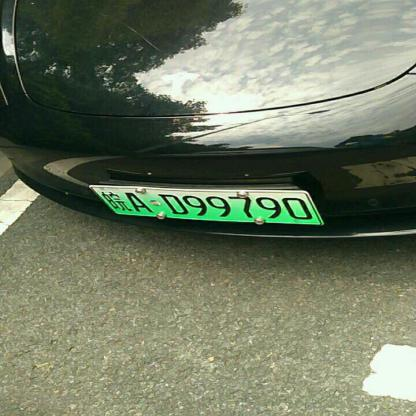lp: (90, 186, 322, 225)
